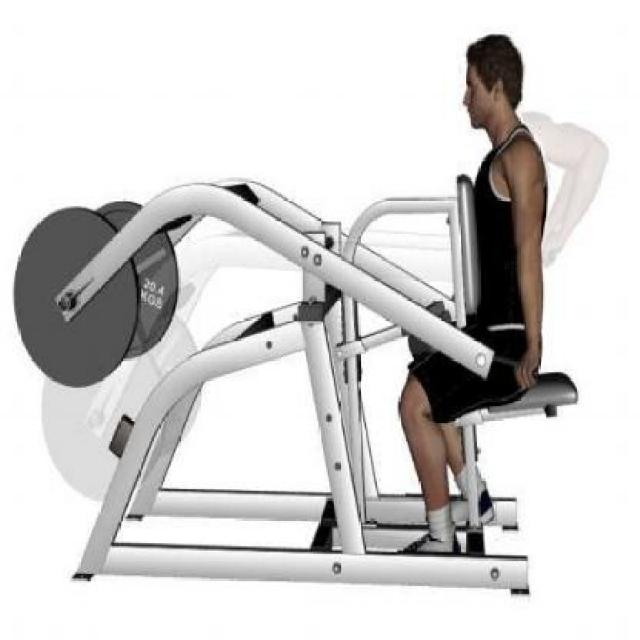seated dip machine: (14, 177, 580, 589)
